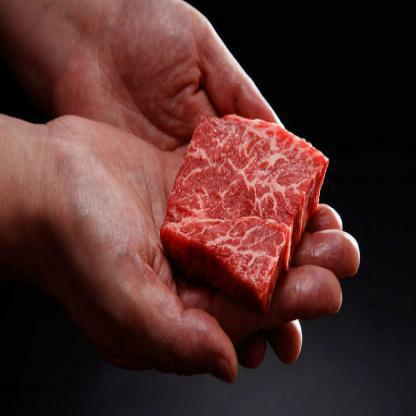beef: (168, 93, 324, 288)
